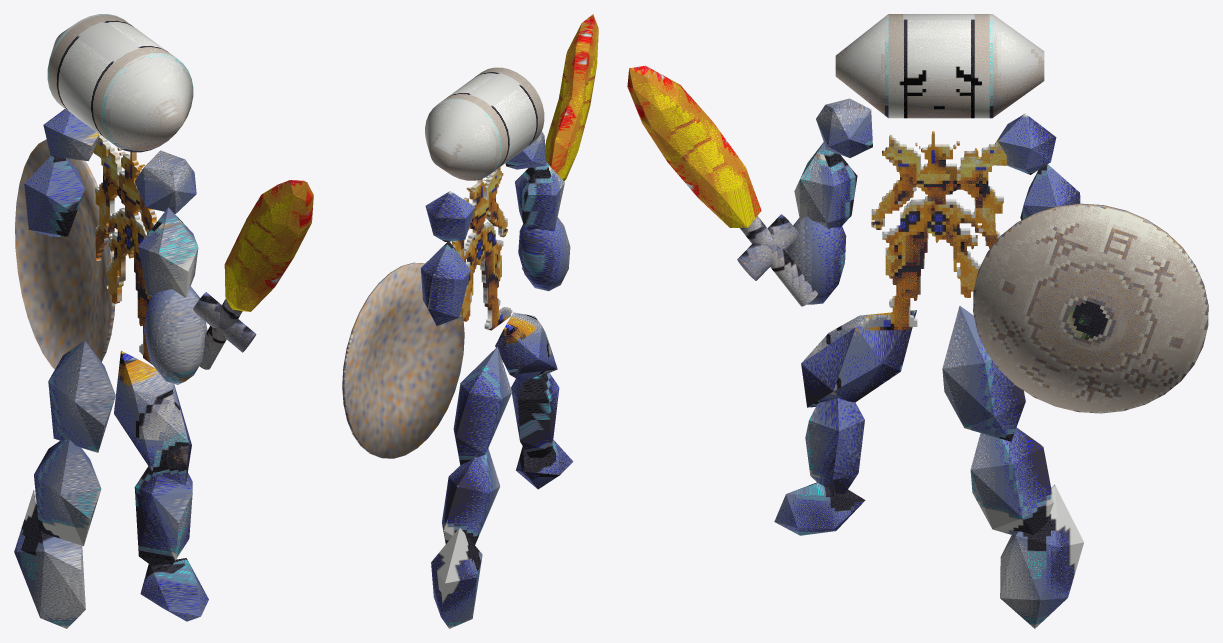
Rendered from Bonklertest.glb.
3 views of the same model, side by side, from view 1: azimuth 30°, elevation 25°; view 2: azimuth 150°, elevation 25°; view 3: azimuth 270°, elevation 25° (orthographic). The views are drawn at different scales.
Visible parts, largest first — view 1: Icosphere, Cylinder, Circle, Icosphere.001, path0, Icosphere.002, Cylinder.001; view 2: Icosphere, Circle, Cylinder, Icosphere.001, path0, Icosphere.002; view 3: Icosphere, Circle, Cylinder, path0, Icosphere.001, Cylinder.001, Icosphere.002.
Part boxes in pixels (left/top/right/bottom): Icosphere: left=14, top=109, right=208, bottom=628; Cylinder: left=47, top=14, right=193, bottom=152; Circle: left=15, top=139, right=115, bottom=369; Icosphere.001: left=224, top=180, right=313, bottom=311; path0: left=93, top=133, right=156, bottom=364; Icosphere.002: left=144, top=286, right=207, bottom=384; Cylinder.001: left=193, top=292, right=256, bottom=369; Icosphere: left=420, top=131, right=573, bottom=628; Circle: left=342, top=262, right=464, bottom=458; Cylinder: left=425, top=67, right=544, bottom=180; Icosphere.001: left=545, top=14, right=598, bottom=181; path0: left=452, top=167, right=512, bottom=330; Icosphere.002: left=518, top=217, right=570, bottom=291; Icosphere: left=774, top=98, right=1083, bottom=628; Circle: left=973, top=203, right=1208, bottom=413; Cylinder: left=835, top=14, right=1044, bottom=118; path0: left=860, top=131, right=1006, bottom=330; Icosphere.001: left=627, top=65, right=761, bottom=227; Cylinder.001: left=737, top=214, right=817, bottom=306; Icosphere.002: left=786, top=216, right=846, bottom=304.
Size of the model in its own units: 0.385 by 2.45 by 2.11.
4 materials, 4 textured.
